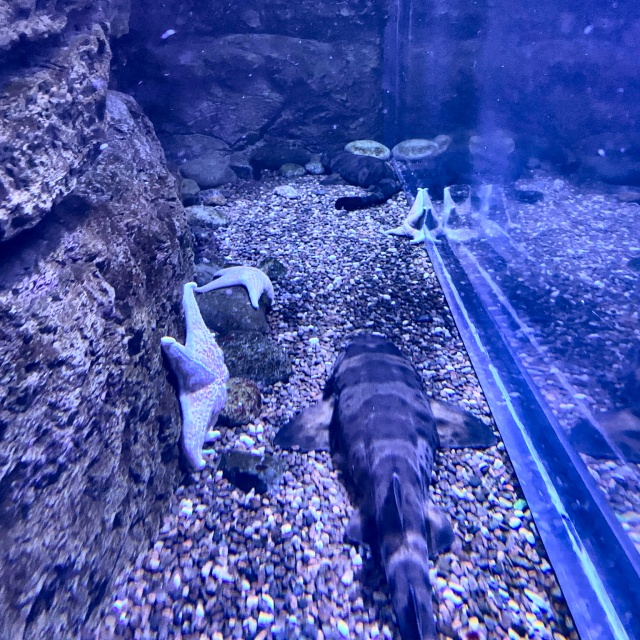shark: (285, 328, 488, 639)
starfish: (161, 289, 230, 471), (197, 262, 289, 308), (382, 188, 434, 245)
